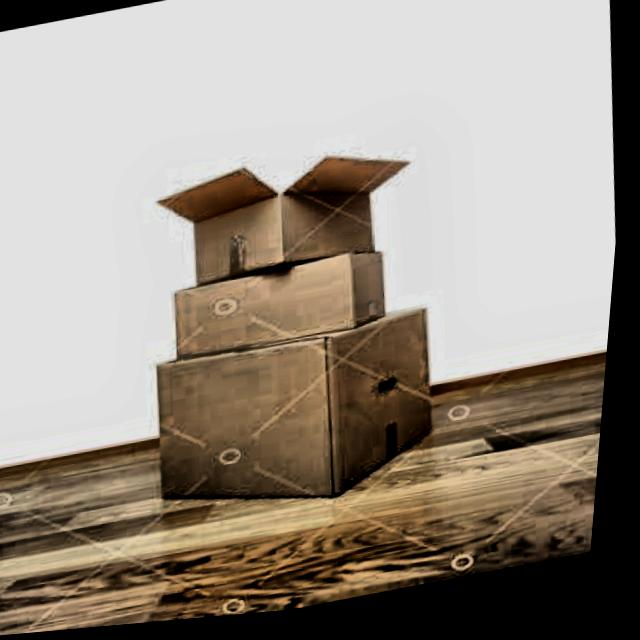Cardbox: (123, 294, 474, 531), (131, 117, 427, 305), (138, 225, 418, 365)
